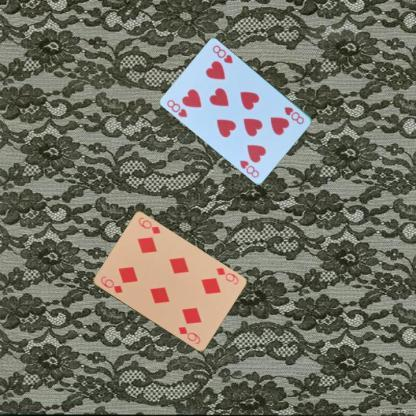6d: (213, 264, 240, 286), (98, 274, 124, 295)
8h: (164, 98, 190, 119), (282, 104, 306, 125)
